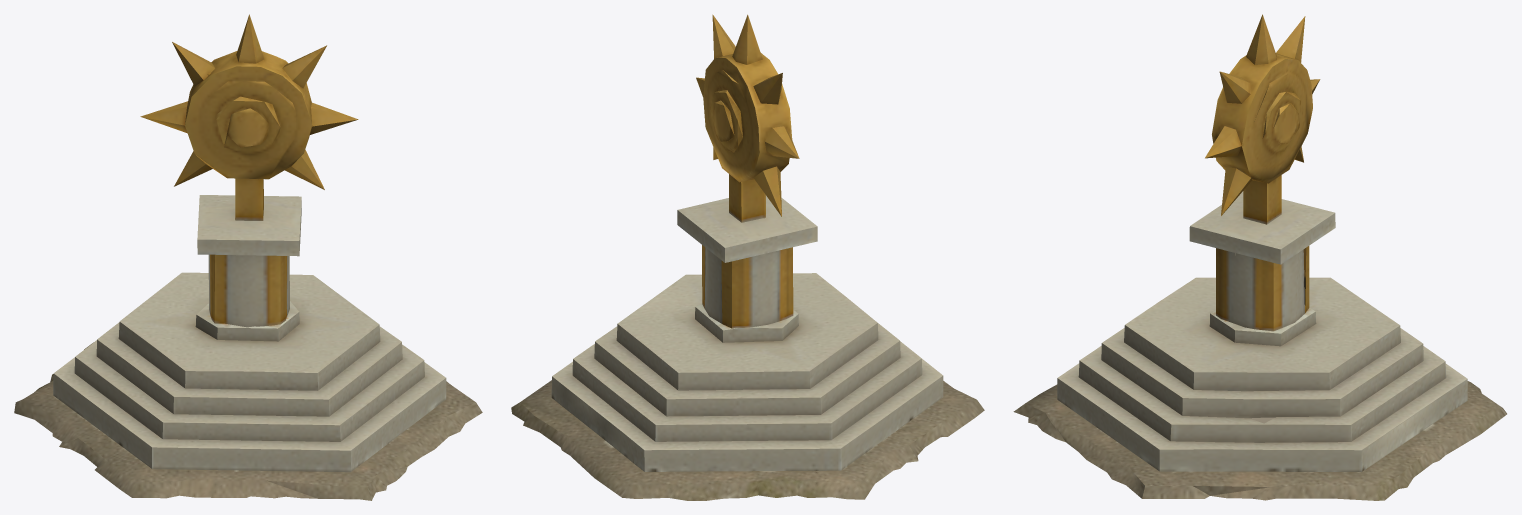
File: shrine.glb
The picture shows the model from 3 angles, left to right: view 1: azimuth 30°, elevation 25°; view 2: azimuth 150°, elevation 25°; view 3: azimuth 270°, elevation 25°; orthographic projection.
Visible parts, largest first — view 1: architecture; view 2: architecture; view 3: architecture.
Part boxes in pixels (x1,y1,x2,y2): architecture: (14, 14, 482, 500); architecture: (511, 14, 984, 500); architecture: (1013, 14, 1506, 500).
Bounding box in the file's own units: 1.21 × 1.28 × 1.43.
Materials: 1 (1 with a texture image).
